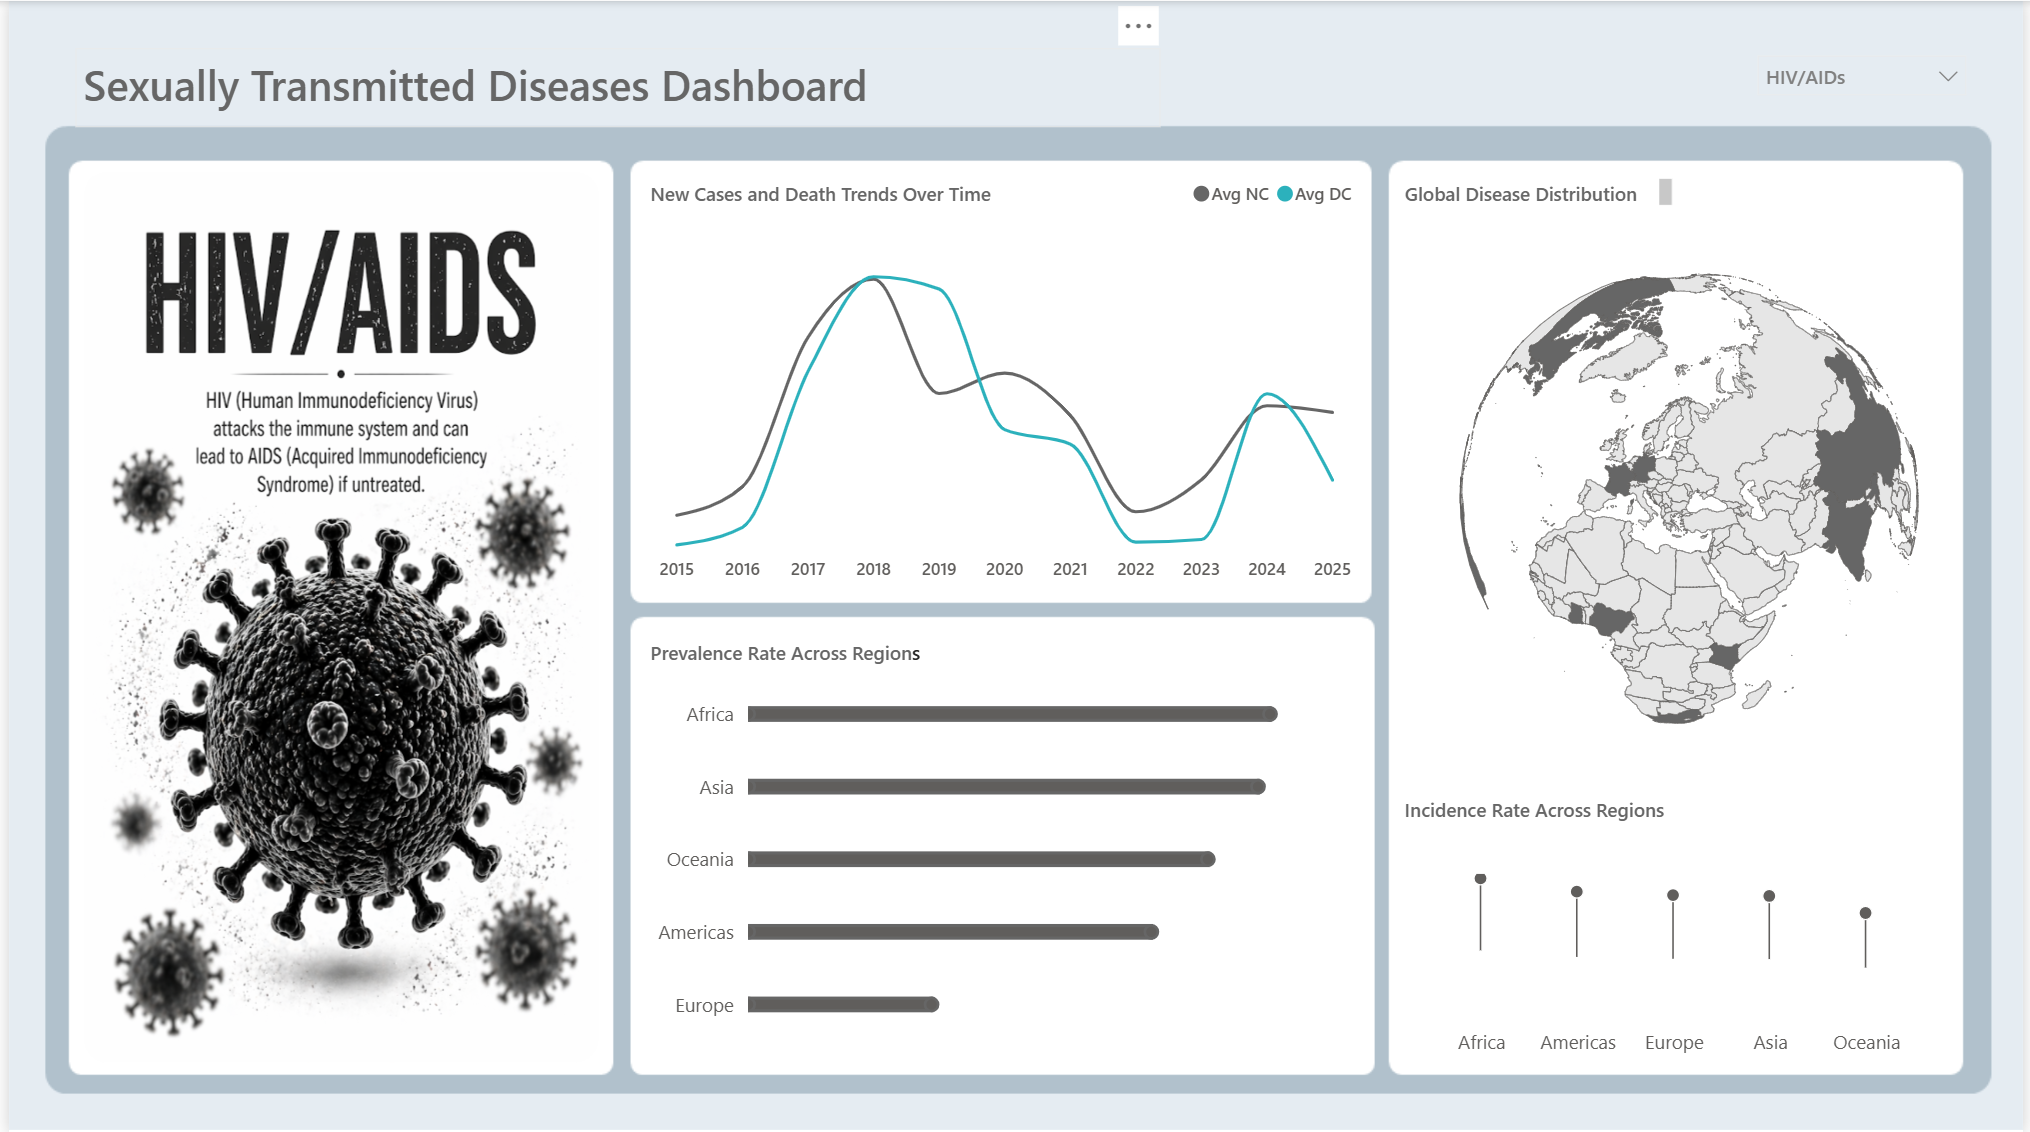

Layout of this report page (visuals, bound fields, positions):
{"tool":"powerbi","page":{"name":"Page 1","canvas":[1280,720],"ordinal":0},"visuals":[{"type":"slicer","fields":{"Values":["Health Image Dataset.Disease"]},"box":[1101.5,24.6,153,49.8],"z":0},{"type":"imageDB603108E3FF4EBFB8047F5653368E8C","fields":{"imageUrl":["Health Image Dataset.Image URL"]},"box":[41.8,103.8,337.3,576.2],"z":1000},{"type":"lineChart","fields":{"Category":["Health Dataset.Year"],"Y":["Avg(Health Dataset.New_Cases)"],"Y2":["Avg(Health Dataset.Deaths)"]},"box":[402.4,103.8,460.1,275.8],"z":2000},{"type":"textbox","box":[402.4,108.1,245.1,35],"z":3000},{"type":"clusteredBarChart","fields":{"Category":["Health Dataset.Region"],"Y":["Avg(Health Dataset.Prevalence_Rate)"]},"box":[402.4,403.6,460.1,276.5],"z":4000},{"type":"textbox","box":[402.4,399.3,184.3,31.3],"z":5000},{"type":"textbox","box":[41.8,30.1,689.9,49.8],"z":6000},{"type":"shapeMap","fields":{"Category":["Health Dataset.Country"]},"box":[900.6,125.9,333.6,380.9],"z":7000},{"type":"textbox","box":[882.2,108.1,180,27],"z":8000},{"type":"clusteredColumnChart","fields":{"Category":["Health Dataset.Region"],"Y":["Avg(Health Dataset.Incidence_Rate)"]},"box":[882.2,541.8,352.6,138.2],"z":9000},{"type":"textbox","box":[882.2,499.5,299.8,35],"z":10000}]}

Visuals, with their boxes in screenshot pixels (x1, y1, x2, y2), scaled from the page's 1280x720 canvas onto the 2030x1132 screenshot:
slicer - Health Image Dataset.Disease: (x1=1747, y1=39, x2=1990, y2=117)
imageDB603108E3FF4EBFB8047F5653368E8C - Health Image Dataset.Image URL: (x1=66, y1=163, x2=601, y2=1069)
lineChart - Health Dataset.Year x Avg(Health Dataset.New_Cases): (x1=638, y1=163, x2=1368, y2=597)
textbox: (x1=638, y1=170, x2=1027, y2=225)
clusteredBarChart - Health Dataset.Region x Avg(Health Dataset.Prevalence_Rate): (x1=638, y1=635, x2=1368, y2=1069)
textbox: (x1=638, y1=628, x2=930, y2=677)
textbox: (x1=66, y1=47, x2=1160, y2=126)
shapeMap - Health Dataset.Country: (x1=1428, y1=198, x2=1957, y2=797)
textbox: (x1=1399, y1=170, x2=1685, y2=212)
clusteredColumnChart - Health Dataset.Region x Avg(Health Dataset.Incidence_Rate): (x1=1399, y1=852, x2=1958, y2=1069)
textbox: (x1=1399, y1=785, x2=1875, y2=840)
